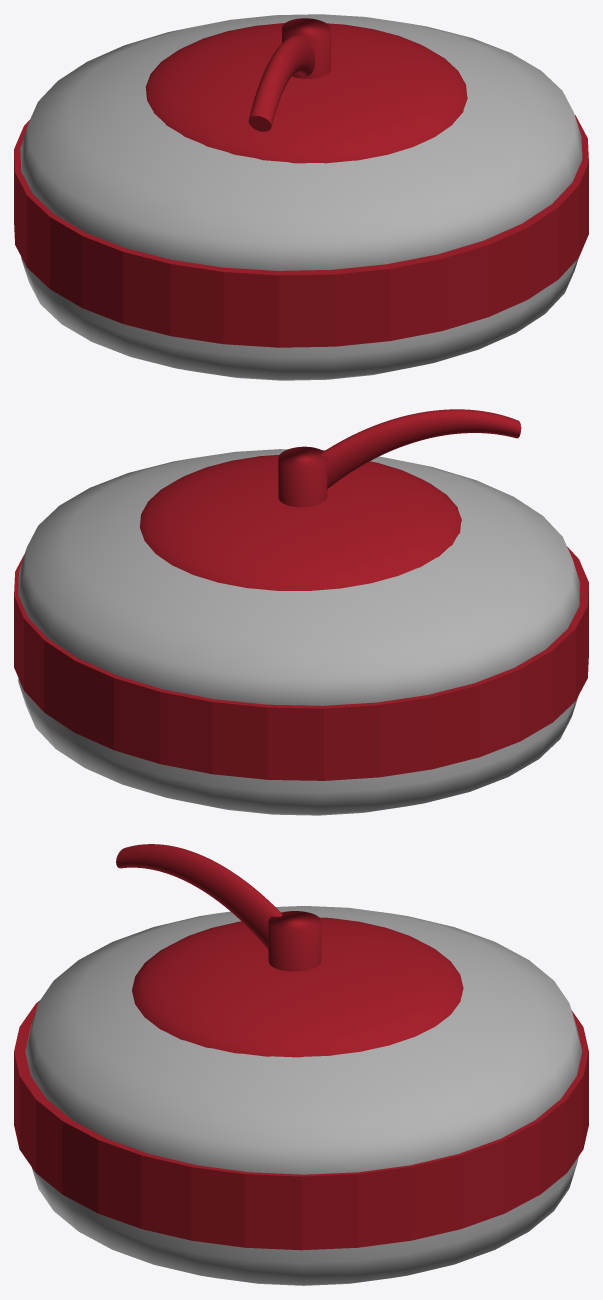
File: red_rock2.0.glb
The picture shows the model from 3 angles, top to bottom: view 1: azimuth 30°, elevation 25°; view 2: azimuth 150°, elevation 25°; view 3: azimuth 270°, elevation 25°; orthographic projection.
Parts seen in each view (by area): view 1: Sphere, Cylinder.002, Sphere.001, Cylinder, Cylinder.001; view 2: Sphere, Cylinder.002, Sphere.001, Cylinder, Cylinder.001; view 3: Sphere, Cylinder.002, Sphere.001, Cylinder, Cylinder.001.
Part boxes in pixels (<box>): Sphere: <box>20,14,582,380</box>; Cylinder.002: <box>14,115,588,347</box>; Sphere.001: <box>145,23,467,163</box>; Cylinder: <box>248,35,314,131</box>; Cylinder.001: <box>282,18,330,78</box>; Sphere: <box>18,449,580,815</box>; Cylinder.002: <box>14,546,588,780</box>; Sphere.001: <box>139,454,461,590</box>; Cylinder: <box>319,409,521,488</box>; Cylinder.001: <box>278,446,327,507</box>; Sphere: <box>25,906,582,1285</box>; Cylinder.002: <box>14,1000,588,1250</box>; Sphere.001: <box>132,917,463,1057</box>; Cylinder: <box>116,844,282,949</box>; Cylinder.001: <box>268,911,321,971</box>.
Bounding box in the file's own units: 2.39 × 1.37 × 2.32.
